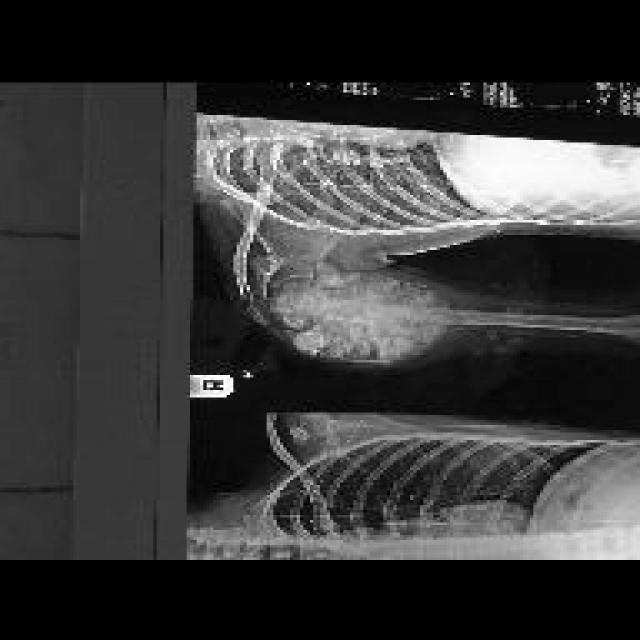bone-cancer: (255, 260, 450, 361)
